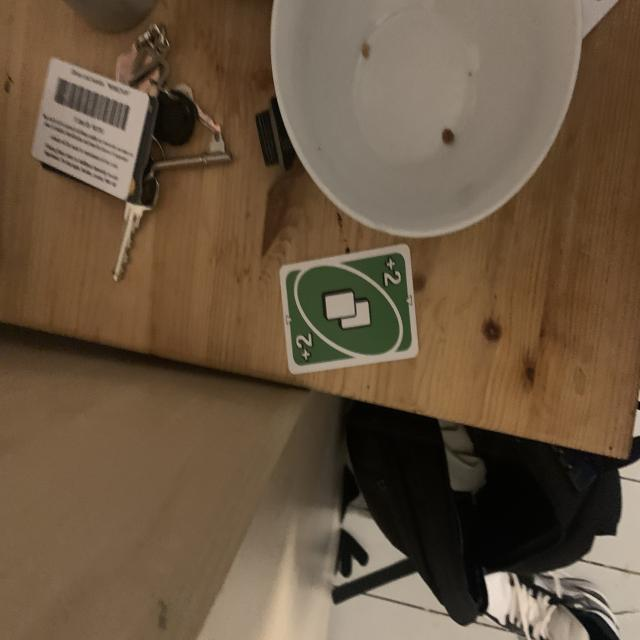lgreen-20: (377, 256, 402, 292)
